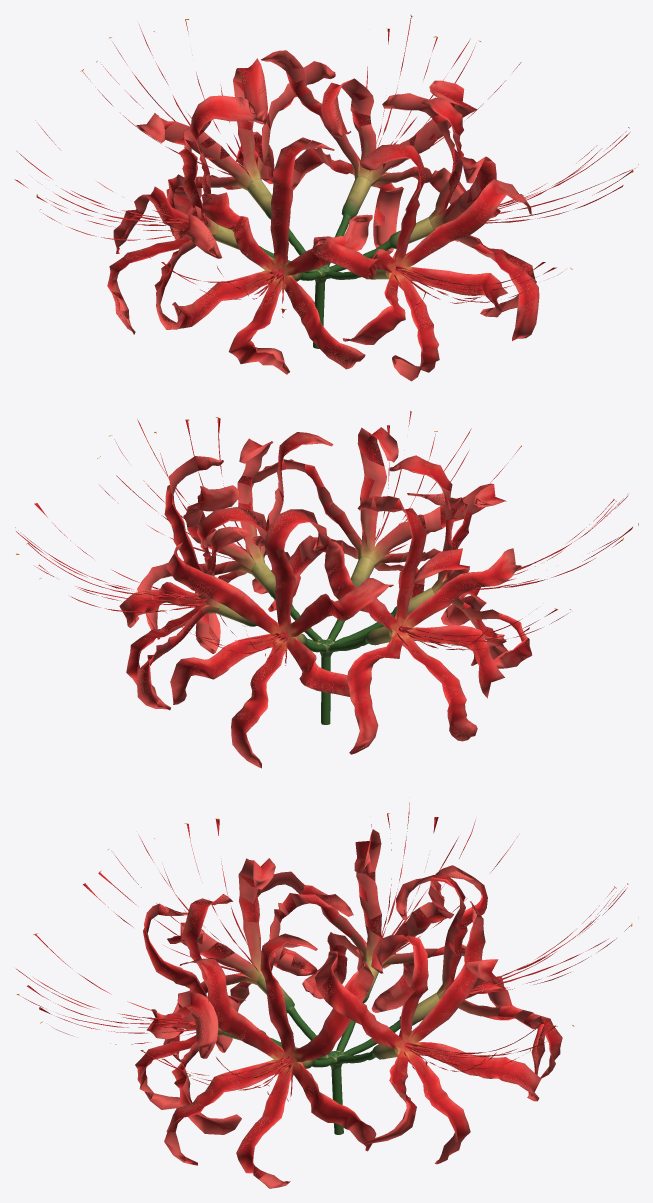
3 views of the same model, one above another, from view 1: azimuth 30°, elevation 25°; view 2: azimuth 150°, elevation 25°; view 3: azimuth 270°, elevation 25° (orthographic).
Visible parts, largest first — view 1: 1c7b5a30; view 2: 1c7b5a30; view 3: 1c7b5a30.
Boxes of the visible parts, x1=… form: 1c7b5a30: x1=14, y1=14, x2=638, y2=381; 1c7b5a30: x1=15, y1=411, x2=638, y2=768; 1c7b5a30: x1=16, y1=802, x2=638, y2=1188.
Bounding box in the file's own units: 0.13 × 0.0613 × 0.1335.
Materials: 1 (1 with a texture image).
